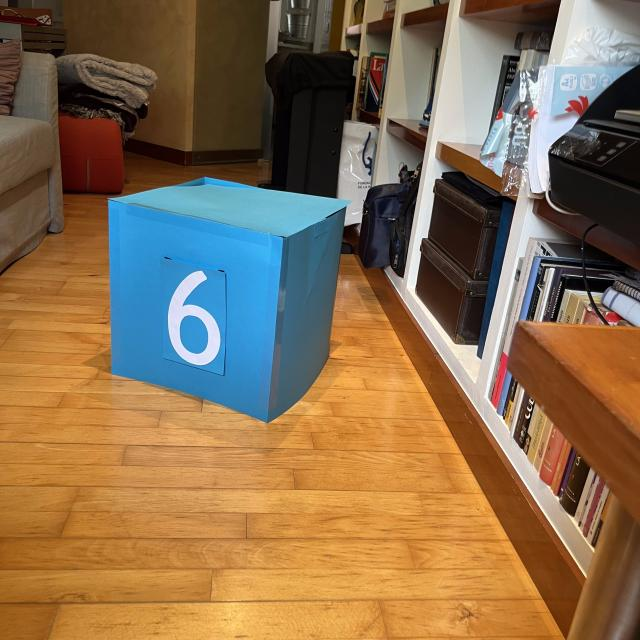box: (101, 172, 352, 426)
